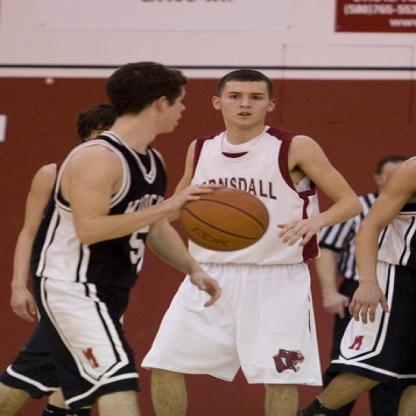basketball: (182, 185, 270, 256)
